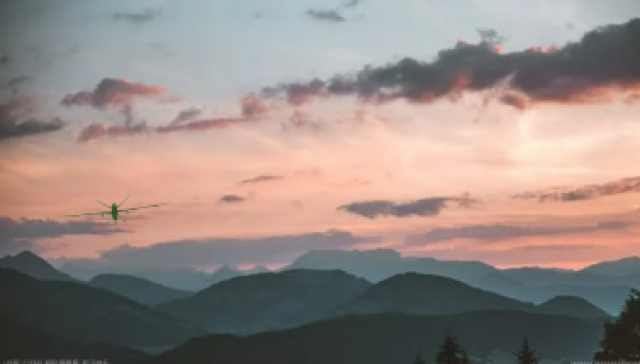military drone: (60, 194, 172, 225)
